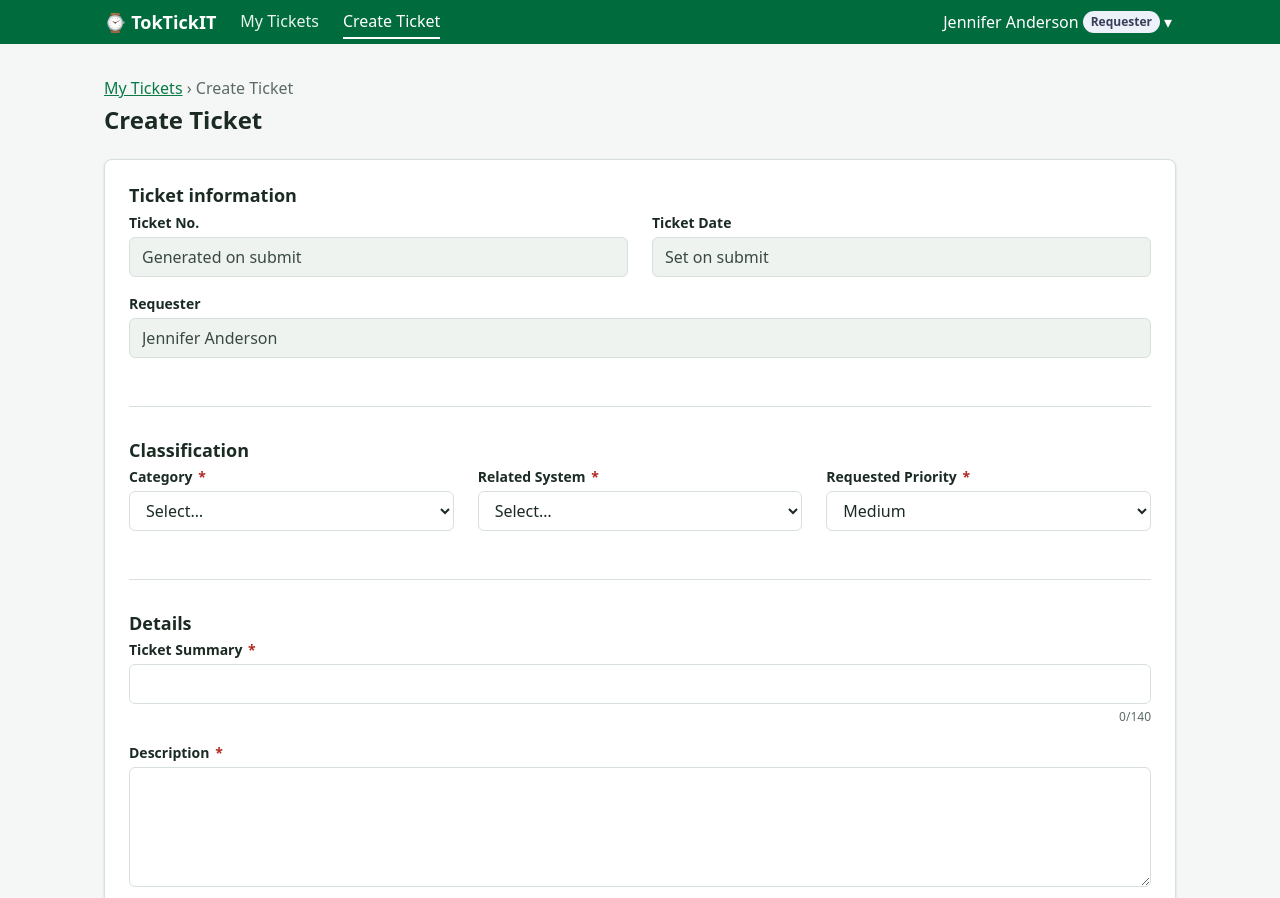
Test: C-10 create validation — empty summary › shows a field message under Summary, focuses it, and sends no create request
Select "Hardware" in the dropdown labelled "Category *". click: (291, 511)
box: [129,491,454,531]
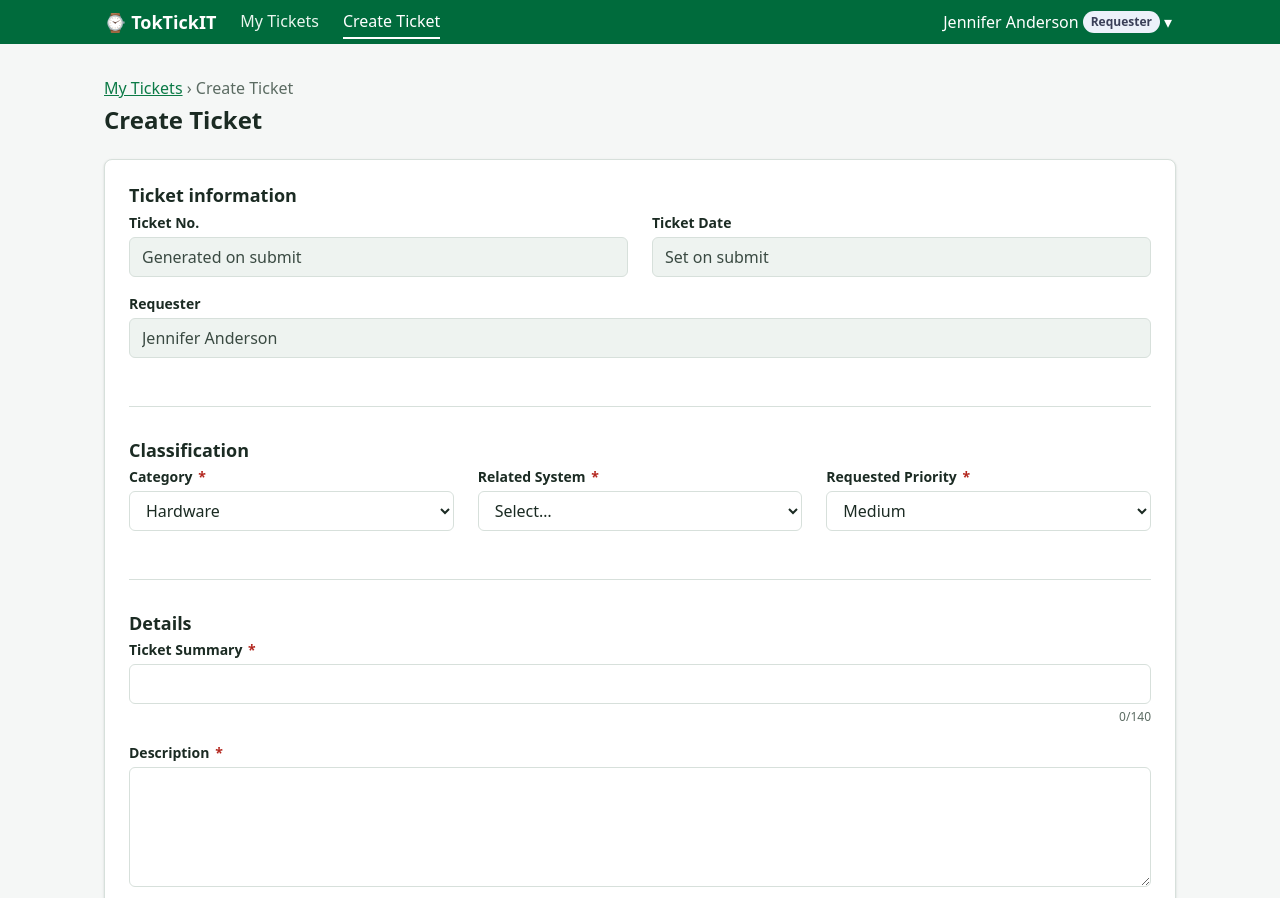
Select "Email" in the dropdown labelled "Related System *". click: (640, 511)
box: [478,491,802,531]
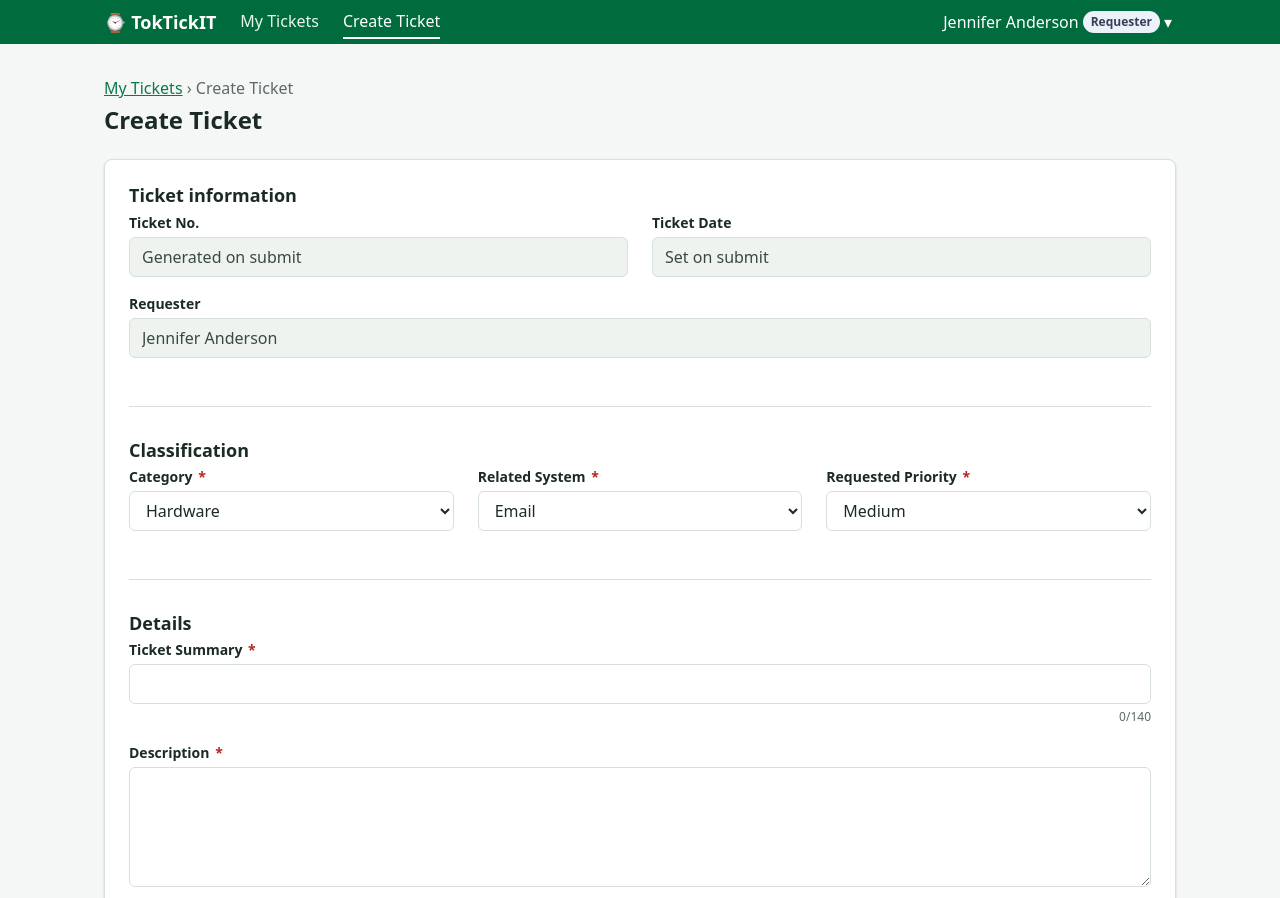
Type "The laptop battery drains far faster than it used to, even when idle." into the text box labelled "Description *". click: (640, 827)
box: [129,767,1151,887]
(page scrolled)
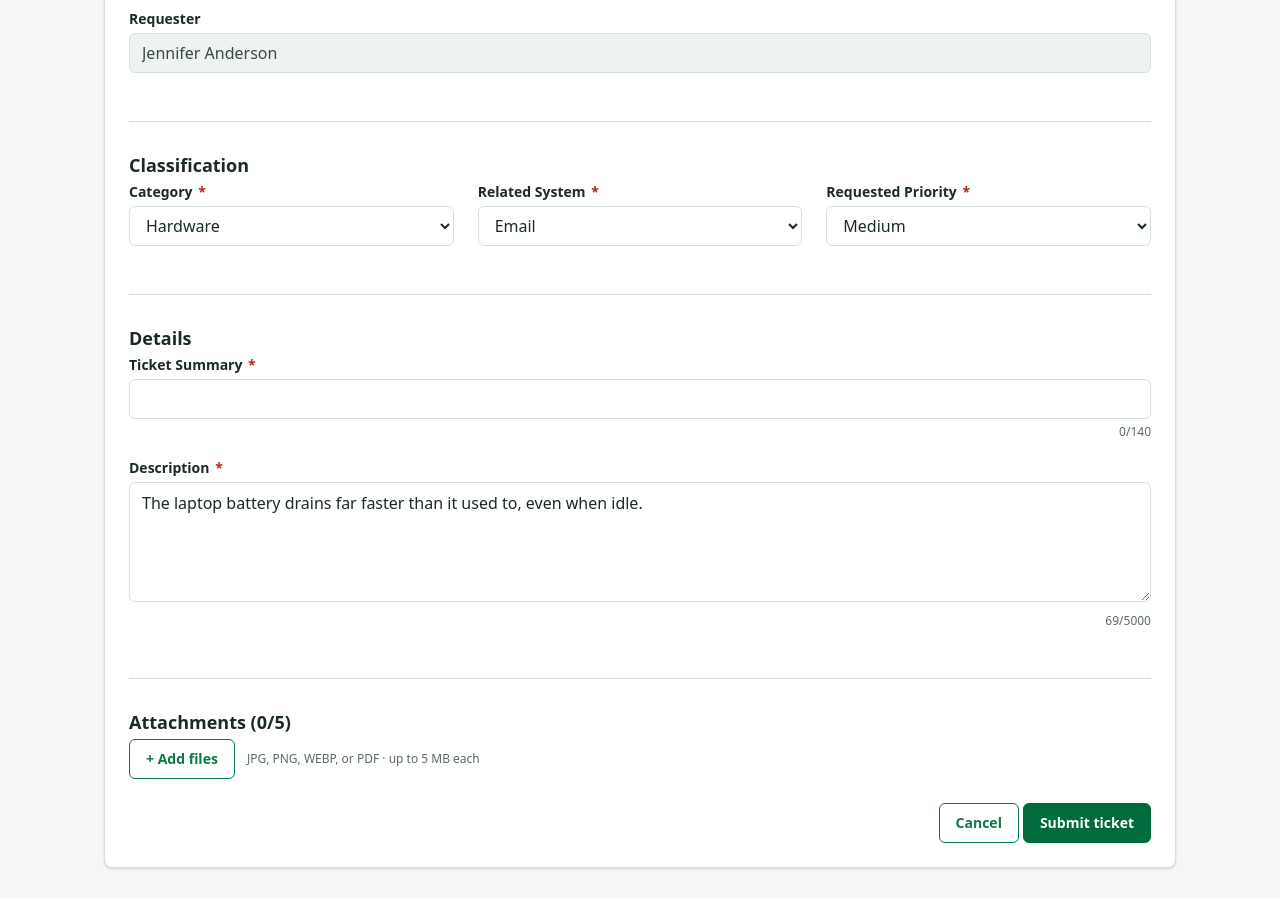
Click the button "Submit ticket". click: (1087, 823)
box: [1023,803,1151,843]
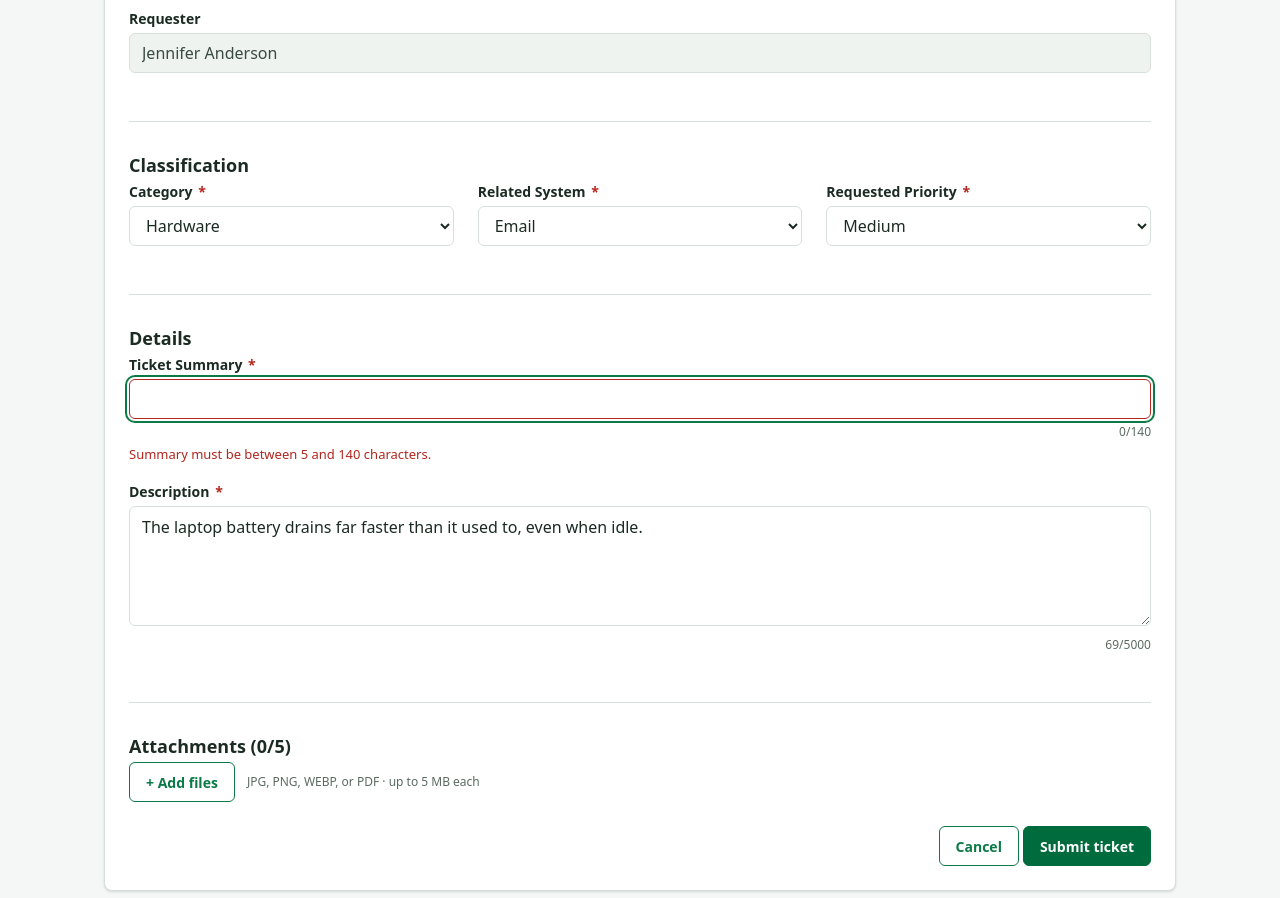
Result: the text "Summary must be between 5 and 140 characters." is shown at [129,445,431,463]
